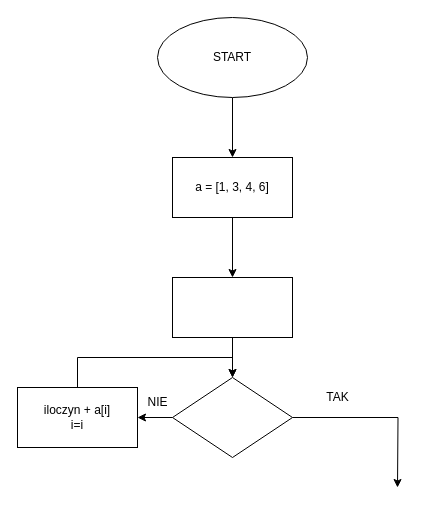
Image size: 424x513. Some labels were removed from this diagram. The shapes that lost their labels are listed below. From the top down, each one's box as (x1, y1, x2, y2) in pixels, then its label:
(172, 276, 292, 338): i=0 iloczyn=0
(172, 376, 292, 458): i<a dł
